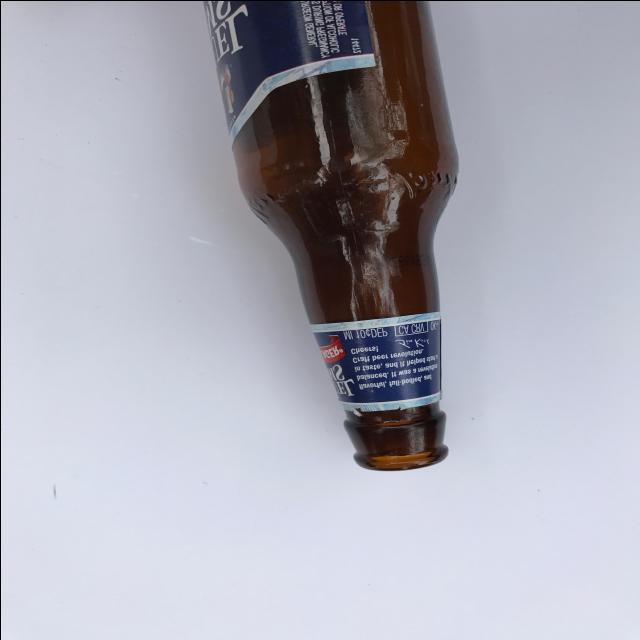glass: (216, 1, 459, 477)
